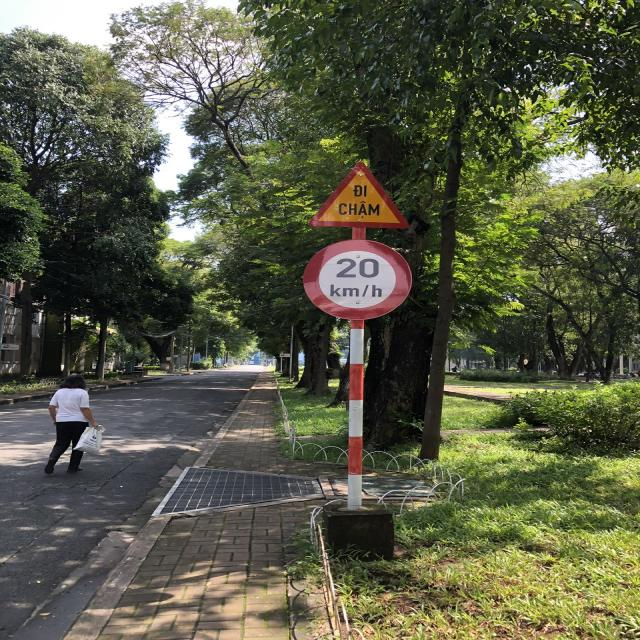Bien bao di cham: (306, 156, 413, 233)
Bien bao toc do toi da cho phep: (288, 234, 423, 325)
